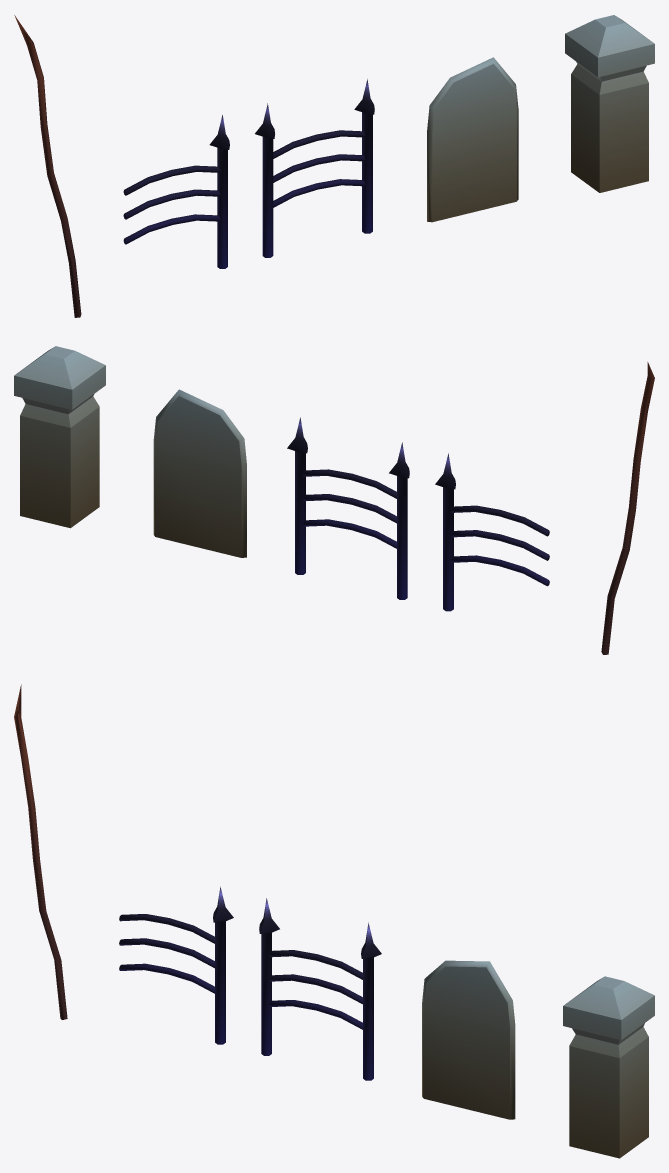
The model's file is WRLD_FBX_Supplemental.fbx.
The picture shows the model from 3 angles, top to bottom: view 1: azimuth 30°, elevation 25°; view 2: azimuth 150°, elevation 25°; view 3: azimuth 330°, elevation 25°; orthographic projection. The views are drawn at different scales.
Visible parts, largest first — view 1: Cube.001, Cube, Cylinder, Cylinder.005, Cylinder.004, Cylinder.001, Cylinder.002, Cylinder.003, Cylinder.010, Cylinder.007, Cylinder.009; view 2: Cube.001, Cube, Cylinder, Cylinder.005, Cylinder.004, Cylinder.001, Cylinder.003, Cylinder.002, Cylinder.010, Cylinder.009, Cylinder.007; view 3: Cube.001, Cube, Cylinder, Cylinder.005, Cylinder.004, Cylinder.001, Cylinder.002, Cylinder.003, Cylinder.007, Cylinder.009, Cylinder.010.
Boxes of the visible parts, x1,y1,x2,y2 form: Cube.001: (565,15,654,192); Cube: (427,57,518,222); Cylinder: (255,79,374,257); Cylinder.005: (14,15,81,317); Cylinder.004: (209,115,229,268); Cylinder.001: (123,214,220,244); Cylinder.002: (123,189,220,219); Cylinder.003: (123,165,220,195); Cylinder.010: (272,179,365,207); Cylinder.007: (273,130,365,158); Cylinder.009: (272,154,365,182); Cube.001: (14,346,105,528); Cube: (153,389,246,557); Cylinder: (287,417,409,599); Cylinder.005: (601,362,654,654); Cylinder.004: (435,453,455,611); Cylinder.001: (450,555,549,586); Cylinder.003: (450,505,549,536); Cylinder.002: (450,530,549,560); Cylinder.010: (302,519,397,548); Cylinder.009: (302,494,396,523); Cylinder.007: (302,469,397,498); Cube.001: (563,976,654,1158); Cube: (422,960,515,1119); Cylinder: (259,898,381,1080); Cylinder.005: (14,684,67,1019); Cylinder.004: (213,886,233,1044); Cylinder.001: (119,963,215,993); Cylinder.002: (119,938,215,968); Cylinder.003: (119,914,215,943); Cylinder.007: (268,950,363,979); Cylinder.009: (268,974,363,1004); Cylinder.010: (268,1000,363,1029).
Bounding box in the file's own units: 328 × 157 × 30.45.
